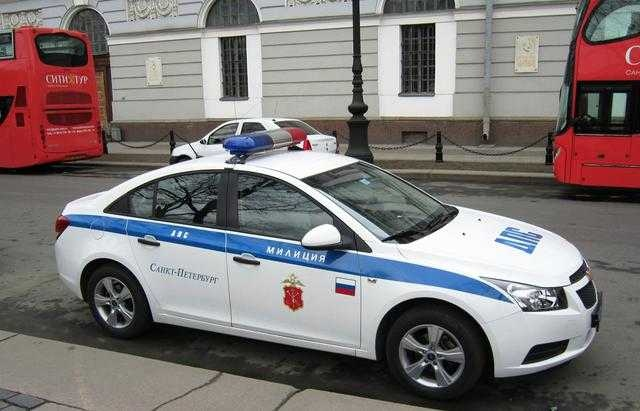Police Car: (39, 131, 595, 405)
